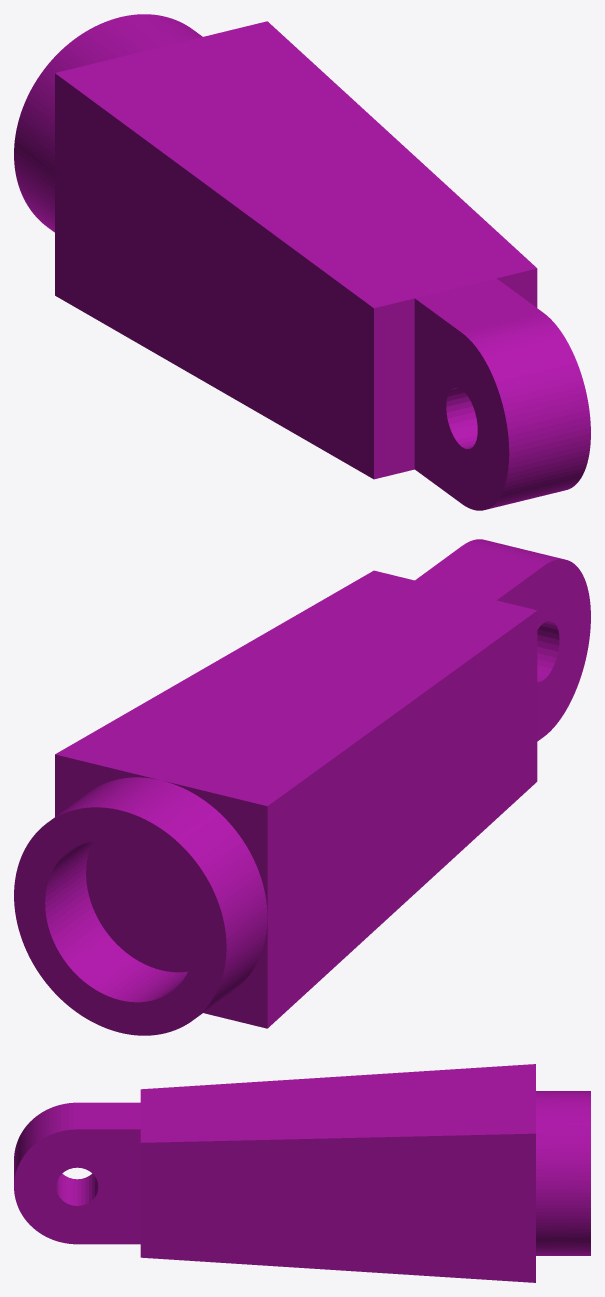
3 renders of one model, top to bottom at view 1: azimuth 30°, elevation 25°; view 2: azimuth 150°, elevation 25°; view 3: azimuth 270°, elevation 25°, orthographic. The views are drawn at different scales.
Parts seen in each view (by area): view 1: node; view 2: node; view 3: node.
Boxes of the visible parts, bbox=[...] form: node: bbox=[14, 14, 590, 510]; node: bbox=[14, 539, 590, 1035]; node: bbox=[14, 1064, 590, 1282].
Bounding box in the file's own units: 0.0395 × 0.0395 × 0.1382.
